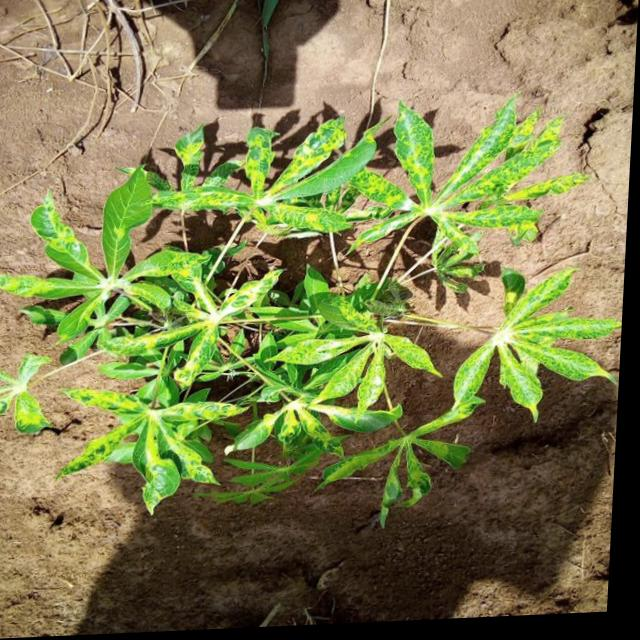Mosaico: (21, 188, 257, 328), (159, 122, 415, 220), (245, 303, 459, 408), (505, 253, 635, 424), (206, 376, 392, 485), (385, 140, 569, 239), (329, 421, 544, 501), (94, 368, 192, 478)
